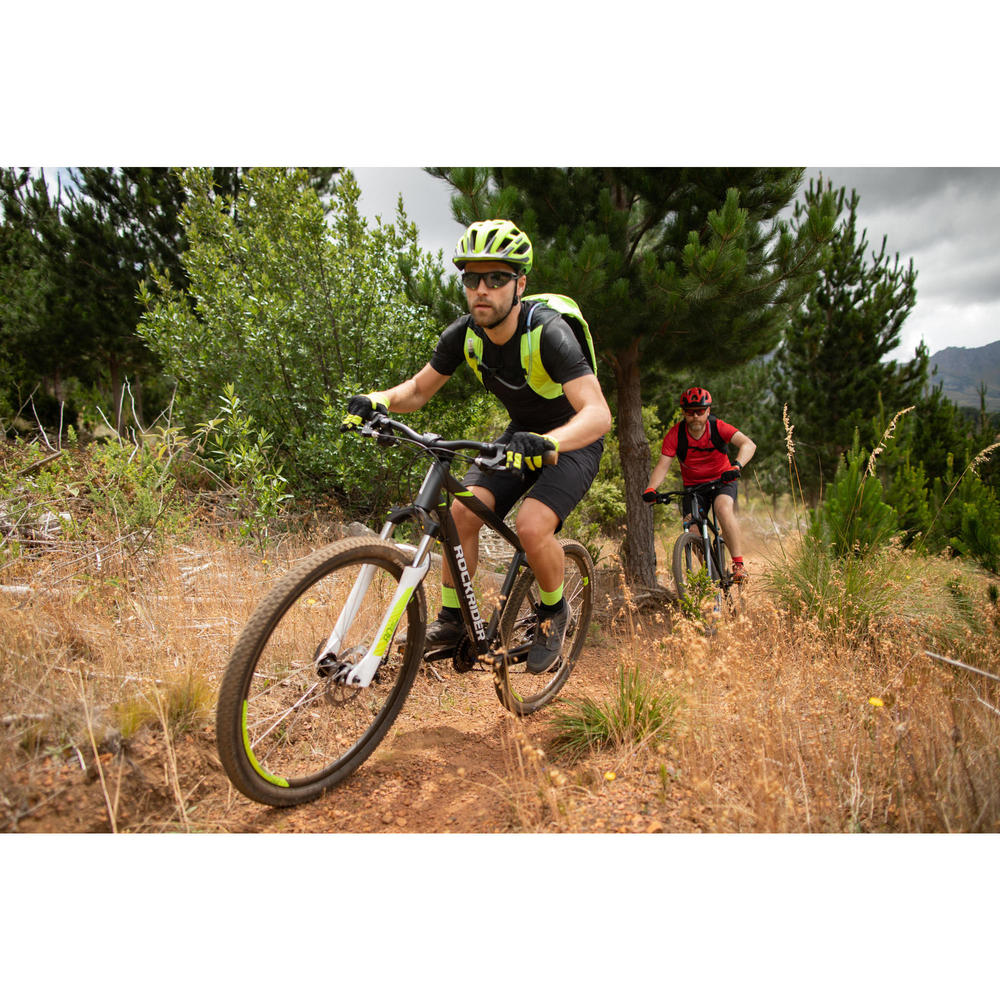MountainBike: (223, 401, 610, 810), (629, 465, 772, 628)
